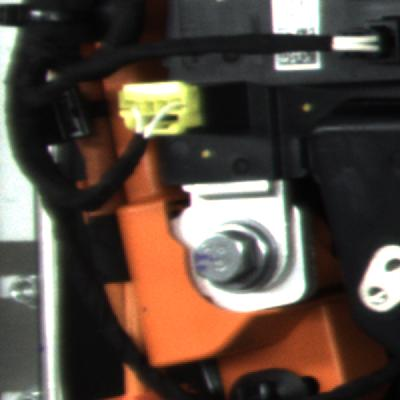nut_b: (178, 209, 304, 303)
